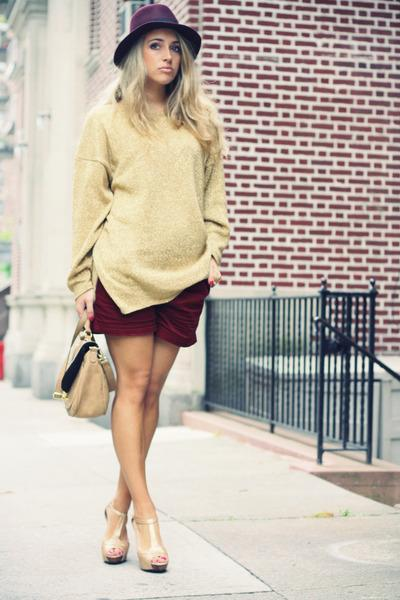bag: (60, 342, 107, 417)
hat: (114, 4, 200, 59)
jacket: (67, 98, 235, 313)
shoe: (100, 501, 167, 573)
shorts: (89, 277, 203, 346)
